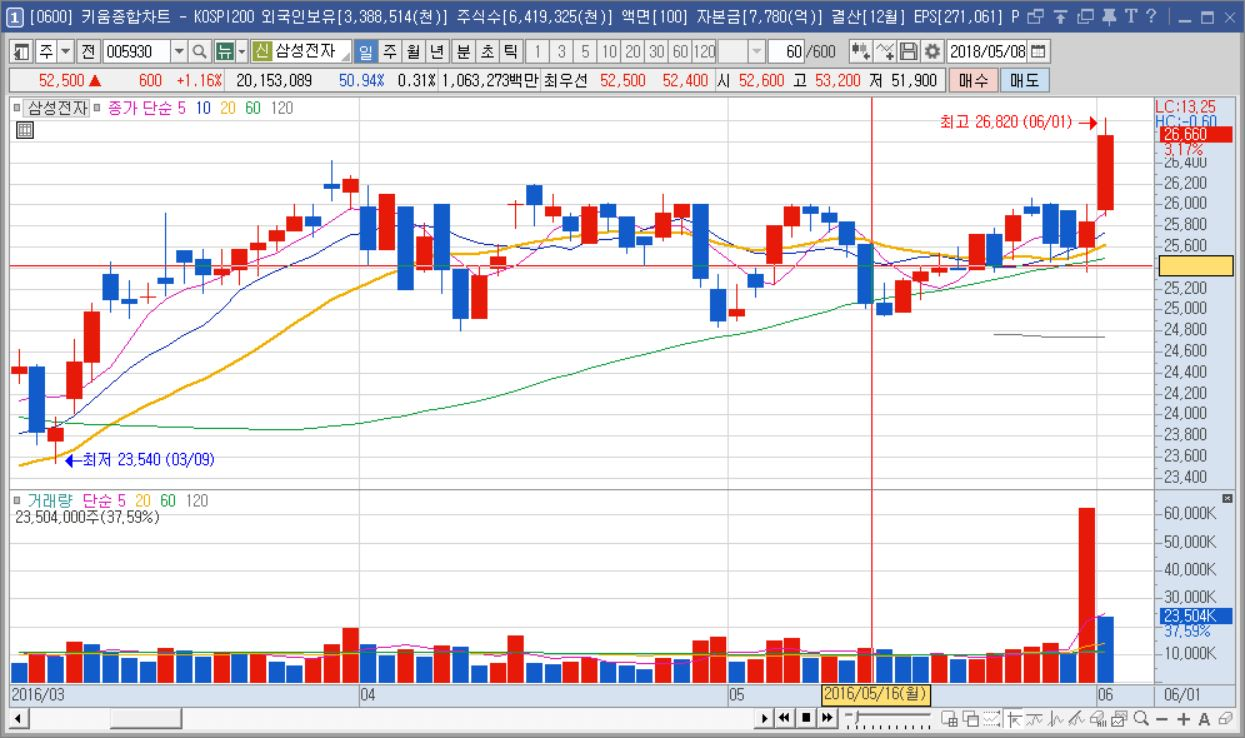up: (46, 108, 1116, 680)
